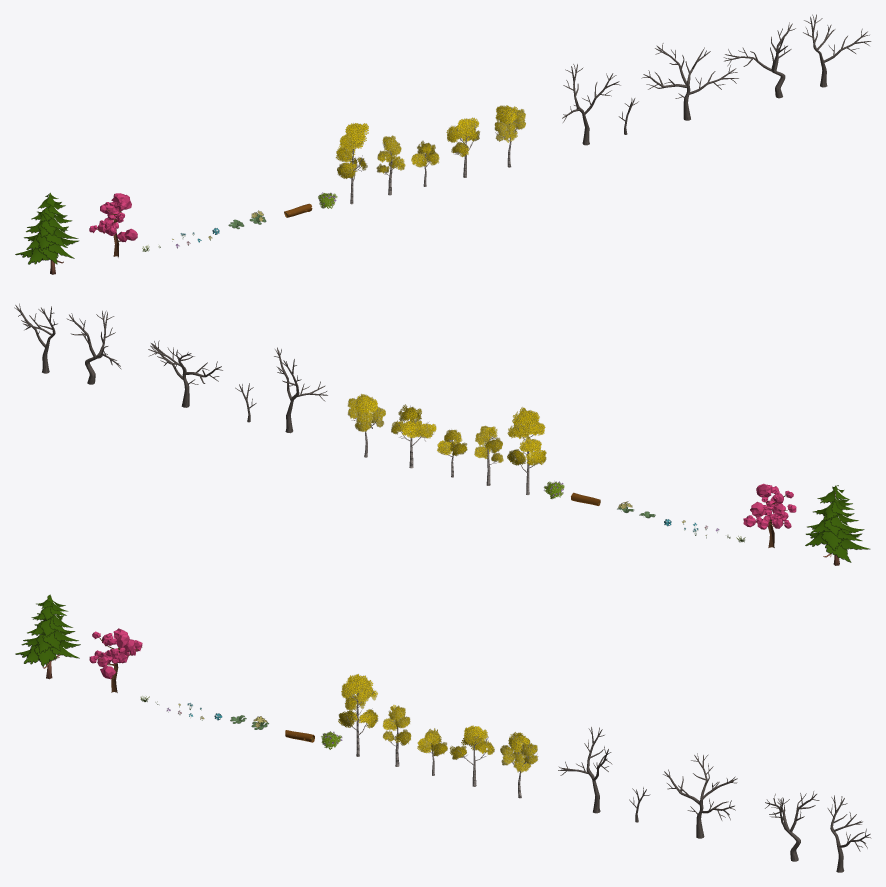
The model's file is naturaleza1.glb.
3 views of the same model, one above another, from view 1: azimuth 30°, elevation 25°; view 2: azimuth 150°, elevation 25°; view 3: azimuth 330°, elevation 25° (orthographic). The views are drawn at different scales.
Parts seen in each view (by area): view 1: Pine_2, BirchTree_2, sakura, DeadTree_8, BirchTree_3, BirchTree_5, BirchTree_1, DeadTree_7, DeadTree_10, DeadTree_6, BirchTree_4; view 2: Pine_2, BirchTree_2, sakura, BirchTree_3, BirchTree_5, BirchTree_1, DeadTree_8, DeadTree_7, DeadTree_10, DeadTree_6, BirchTree_4; view 3: Pine_2, BirchTree_2, sakura, BirchTree_3, DeadTree_8, BirchTree_5, BirchTree_1, DeadTree_7, DeadTree_10, DeadTree_6, BirchTree_4.
Part boxes in pixels (x1,y1,x2,y2): Pine_2: (15,192,79,274); BirchTree_2: (335,123,368,204); sakura: (89,193,137,257); DeadTree_8: (641,43,738,120); BirchTree_3: (494,105,525,167); BirchTree_5: (446,117,480,177); BirchTree_1: (376,135,405,195); DeadTree_7: (723,22,795,98); DeadTree_10: (562,64,620,145); DeadTree_6: (803,14,871,87); BirchTree_4: (411,140,439,186); Pine_2: (805,485,870,565); BirchTree_2: (507,407,546,494); sakura: (743,483,796,547); BirchTree_3: (347,393,385,457); BirchTree_5: (391,404,436,468); BirchTree_1: (474,425,503,485); DeadTree_8: (148,340,222,407); DeadTree_7: (66,310,121,384); DeadTree_10: (274,347,327,433); DeadTree_6: (14,303,57,373); BirchTree_4: (437,429,467,477); Pine_2: (15,594,80,679); BirchTree_2: (338,674,378,756); sakura: (89,628,142,692); BirchTree_3: (500,732,538,798); DeadTree_8: (663,753,737,838); BirchTree_5: (449,725,494,786); BirchTree_1: (382,705,411,766); DeadTree_7: (765,791,819,861); DeadTree_10: (558,727,612,813); DeadTree_6: (827,795,871,872); BirchTree_4: (417,728,447,775).
Size of the model in its own units: 81.2 by 7.93 by 5.69.
Materials: 13 (11 with a texture image).
